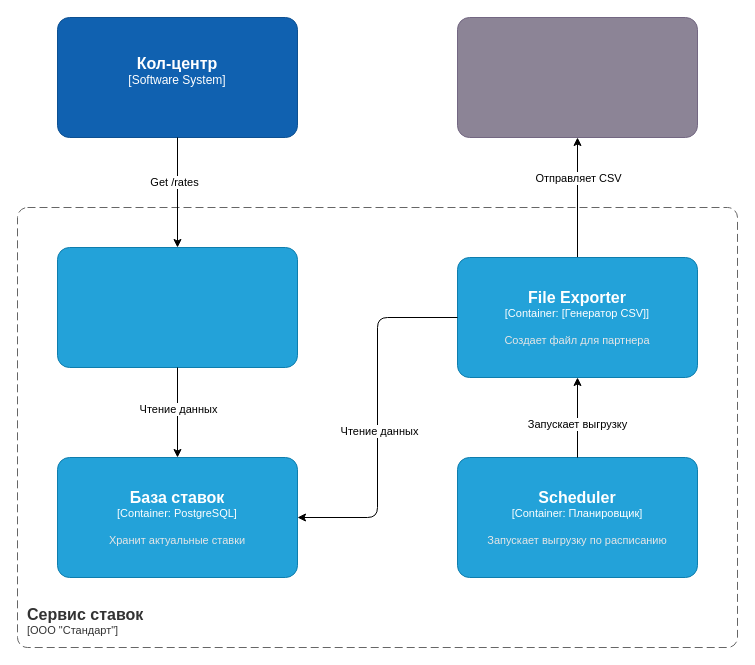
Some shapes in this 755 by 665 pixel diagram are drawn without their labels. The centre of each missing label's shape, as x and y in pixels:
Rates Api [Container: [REST Endpoint]] Предоставляет ставки для кол-центра: (177,307)
SFTP партнера [Software System]: (577,77)
